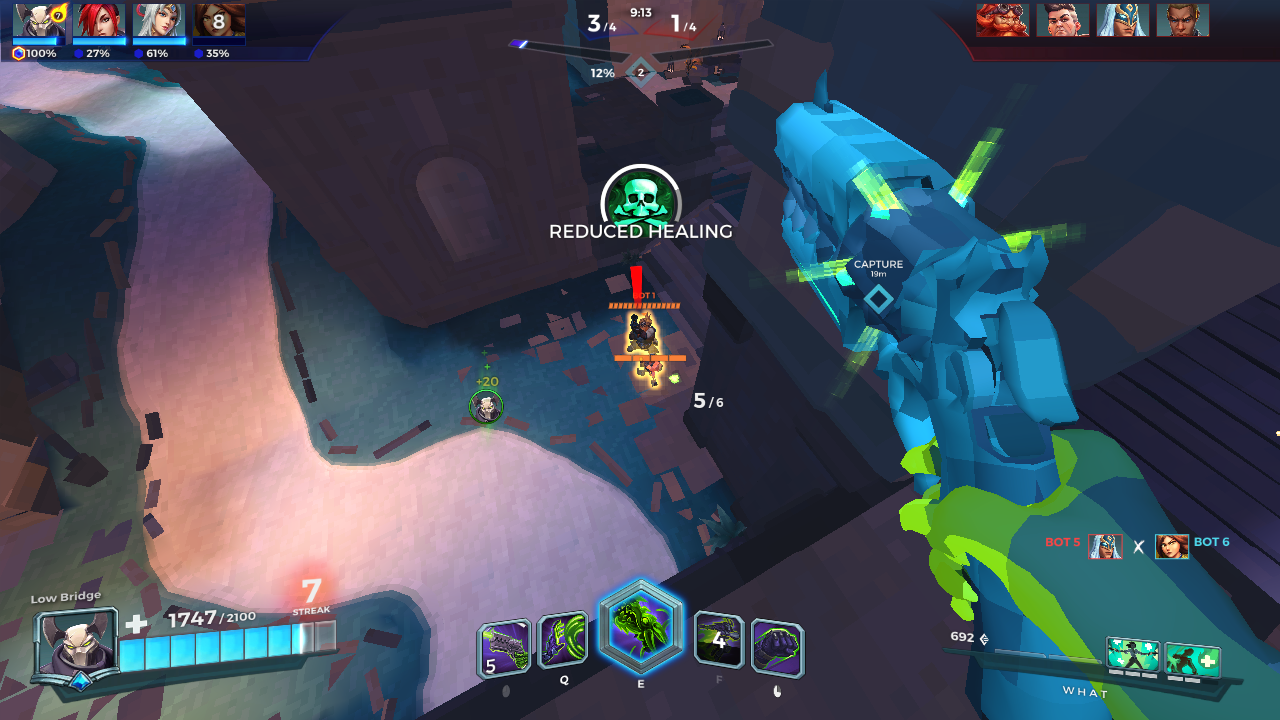model: (626, 307, 655, 353), (642, 364, 666, 388)
